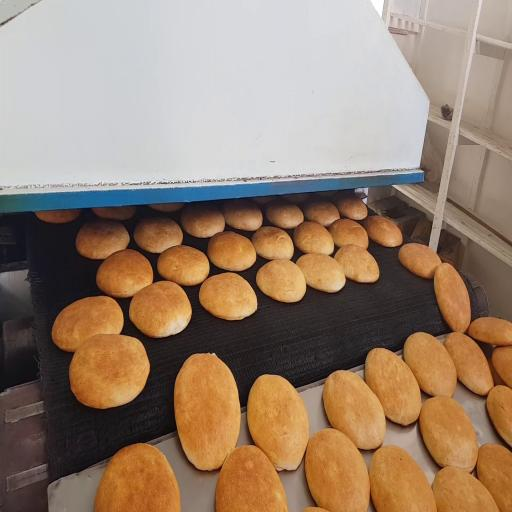bread: (174, 354, 240, 470), (69, 334, 150, 409), (247, 375, 309, 470), (95, 444, 180, 511), (305, 429, 369, 511), (323, 371, 385, 449), (216, 446, 287, 511), (419, 396, 478, 472), (369, 446, 436, 511), (365, 348, 421, 425), (52, 296, 123, 352), (130, 281, 191, 338), (403, 332, 457, 396), (444, 333, 494, 395), (433, 467, 498, 511), (96, 249, 153, 298), (199, 273, 257, 320), (434, 263, 471, 333), (477, 444, 511, 511), (256, 260, 306, 302), (76, 220, 129, 259), (158, 246, 209, 285), (208, 231, 256, 271), (297, 254, 345, 292), (335, 244, 379, 283), (134, 218, 182, 253), (399, 243, 441, 279), (487, 385, 511, 447), (181, 204, 225, 237), (294, 221, 334, 255), (252, 227, 294, 259), (468, 317, 511, 346), (222, 200, 262, 231), (364, 216, 402, 247), (329, 219, 368, 248), (266, 201, 303, 228), (304, 202, 339, 227), (335, 195, 367, 220), (492, 347, 511, 387), (92, 206, 136, 220), (35, 210, 80, 223), (148, 203, 183, 212), (280, 193, 311, 203), (250, 196, 276, 205), (314, 191, 337, 197), (303, 507, 327, 511)
